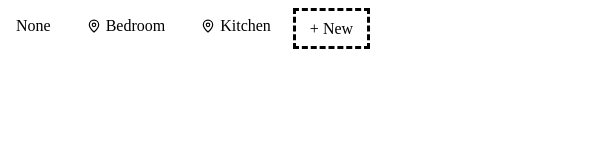
Test: LocationChips › shows new location form when "+ New" is clicked
The image size is (593, 160).
Click the button "+ New" at x=332, y=29, box [293,8,370,49]
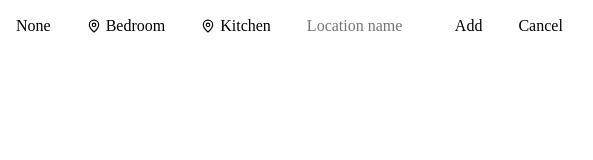
expect the field with placeholder "Location name" is shown: met, box [293,9,433,43]
expect the button "Add" is shown: met, box [441,8,496,43]
expect the button "Cancel" is shown: met, box [504,8,577,43]
